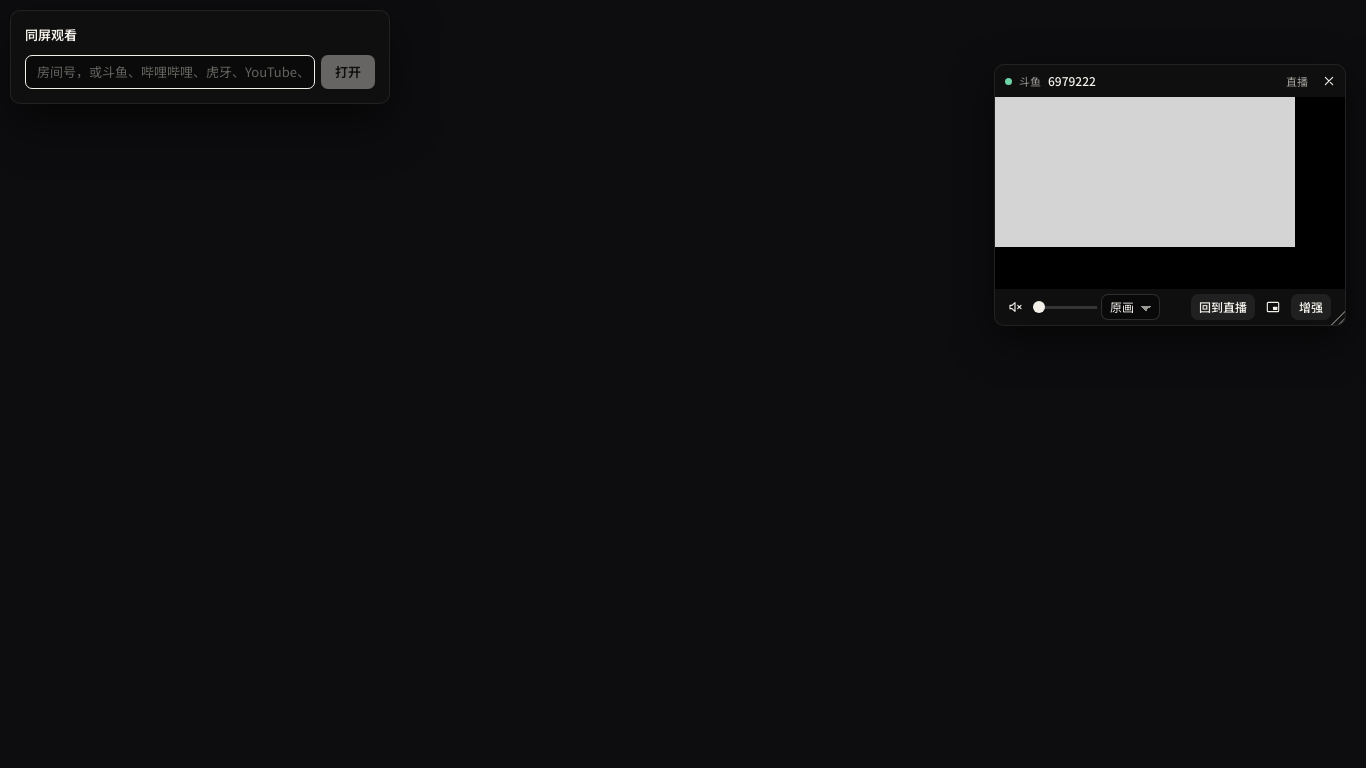
Test case: the add form › shows the backend refusal and stays open
The image size is (1366, 768).
Step 1. Type "https://www.twitch.tv/abc" into the field named "直播间房间号或链接" → (170, 72), box [25, 54, 315, 88]
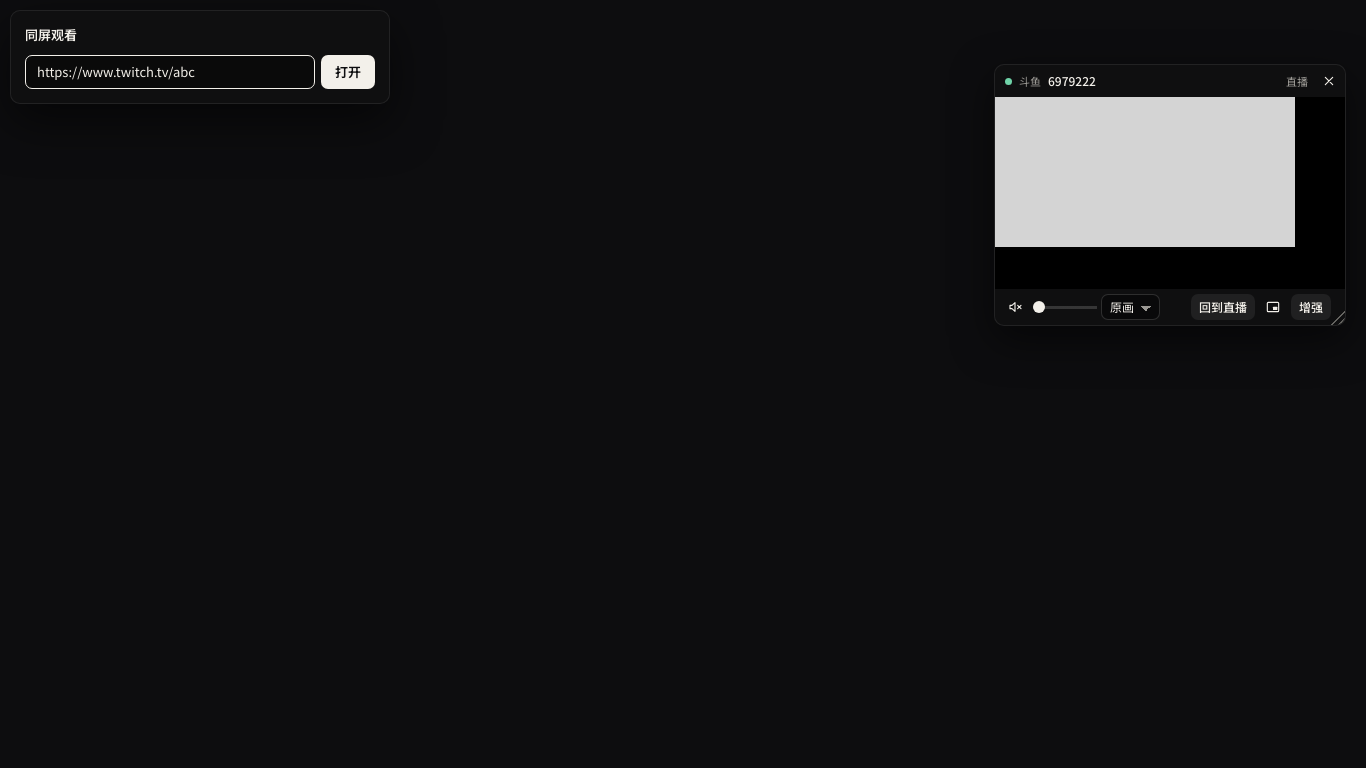
Step 2. Submit the form named "直播间房间号或链接", box [25, 25, 375, 88]
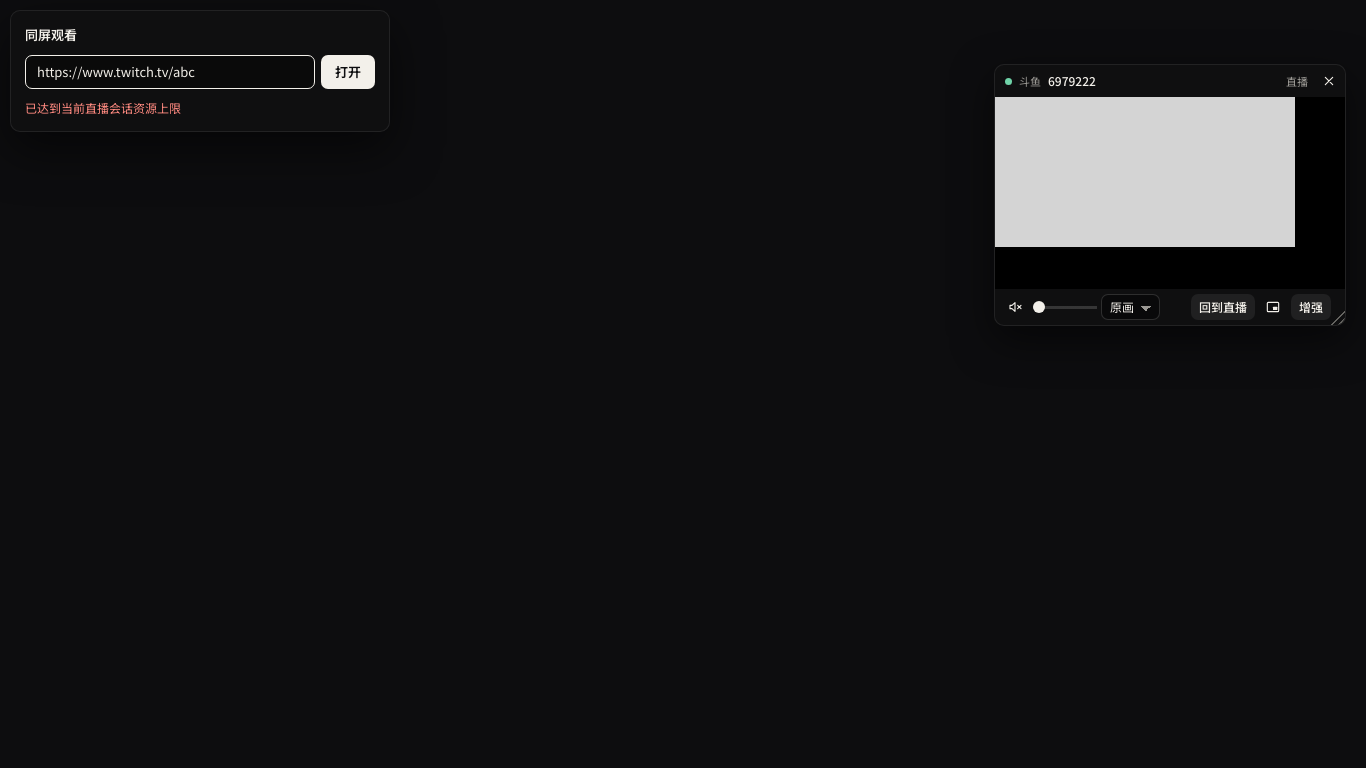
Check: the message reads "已达到当前直播会话资源上限", box [25, 98, 181, 116]
